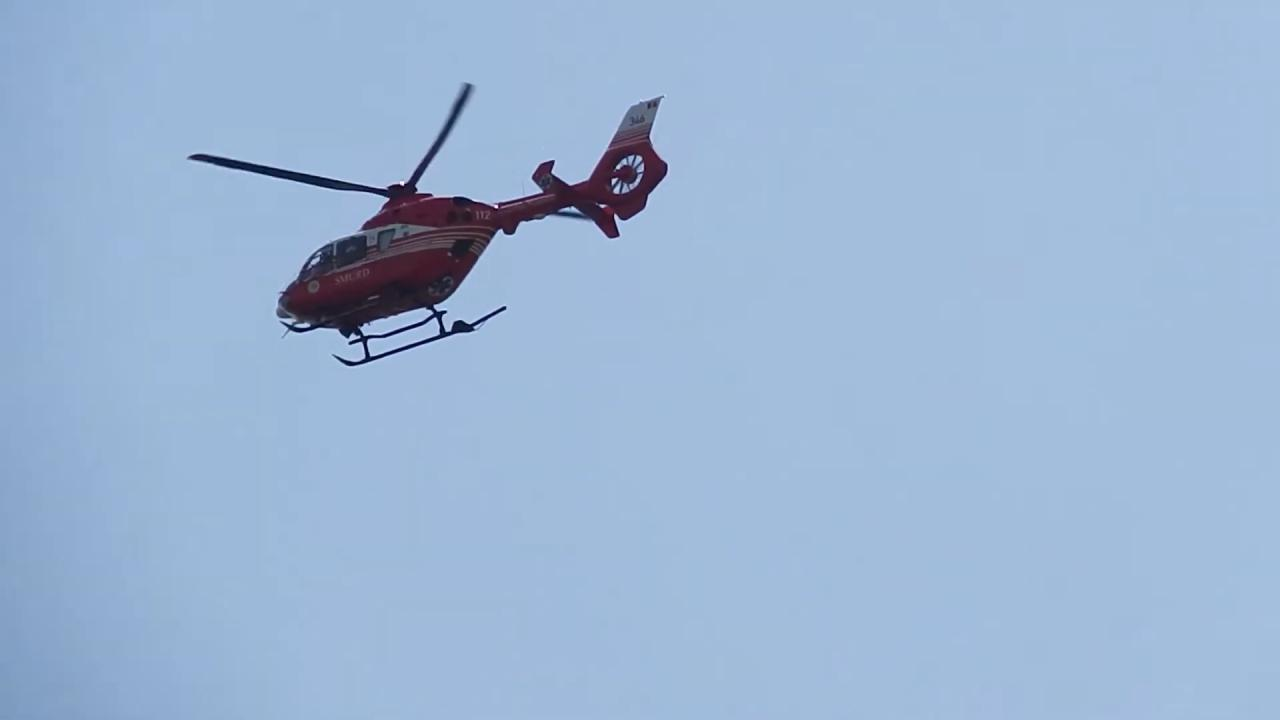Helicopter: (176, 70, 685, 376)
